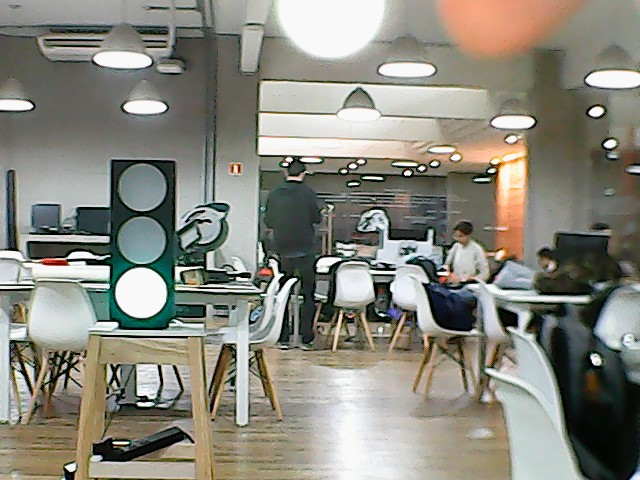verde: (106, 153, 183, 334)
